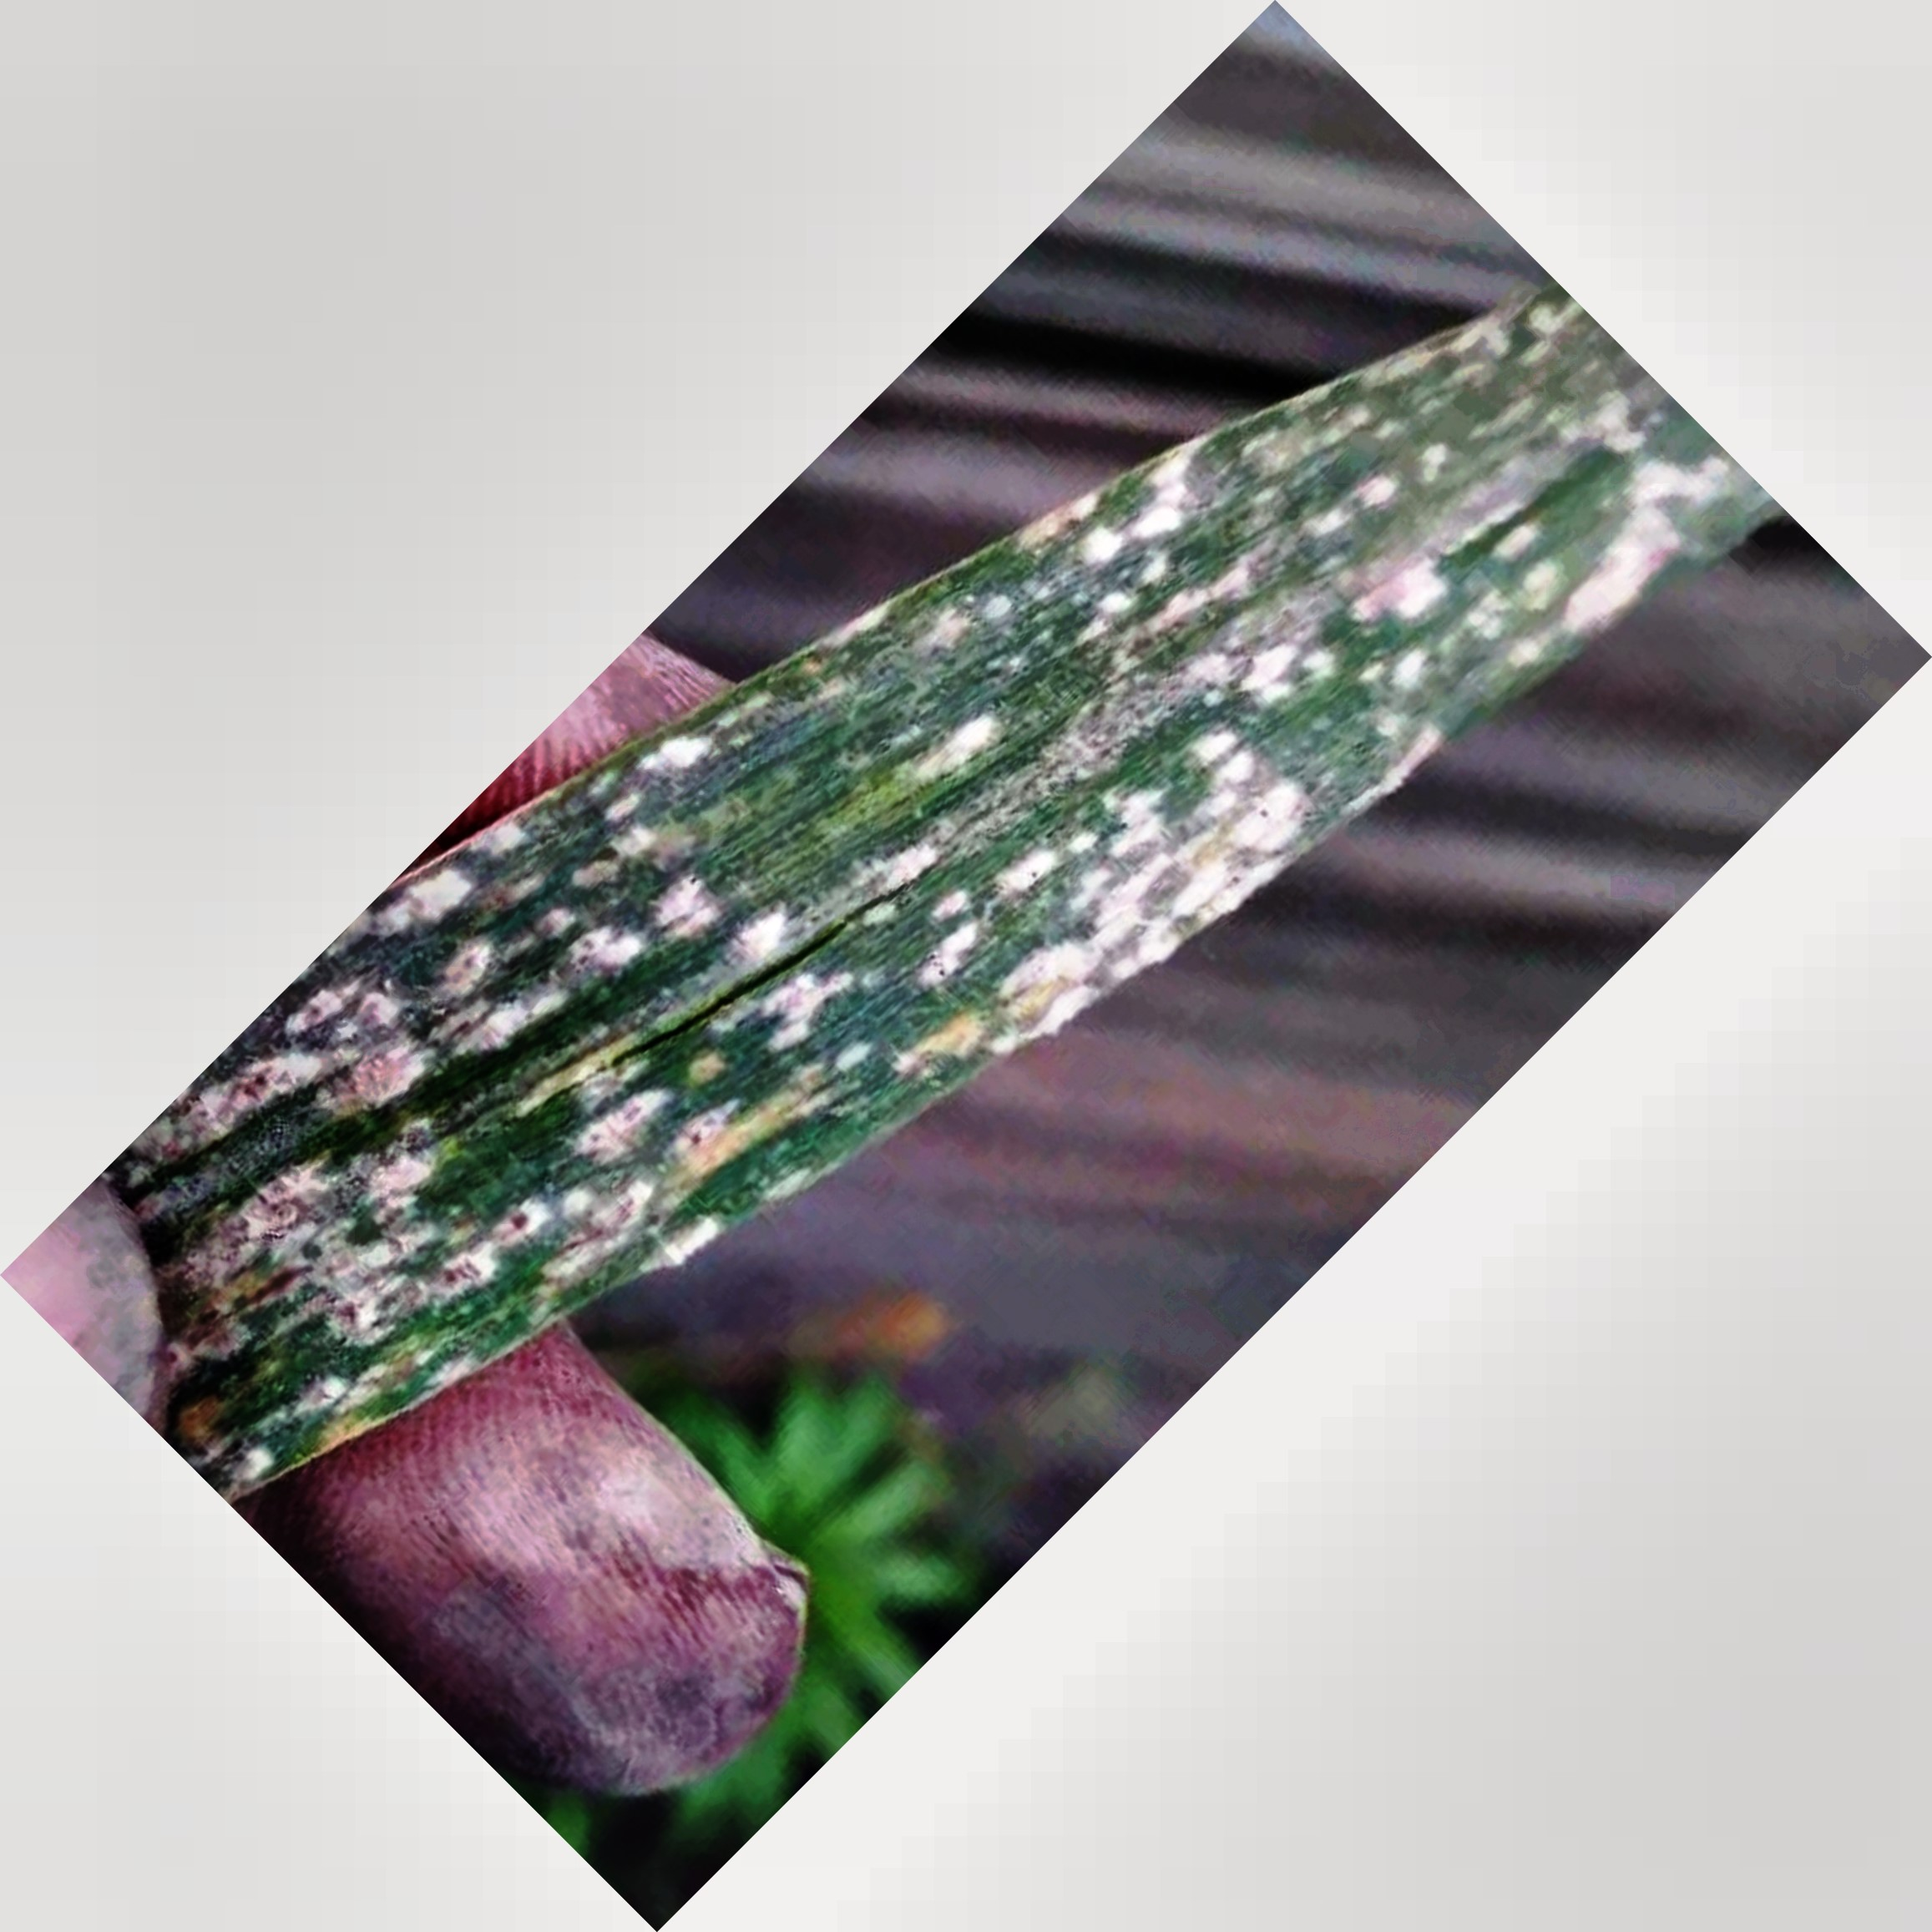Powdery Mildew: (191, 308, 1578, 1433)
